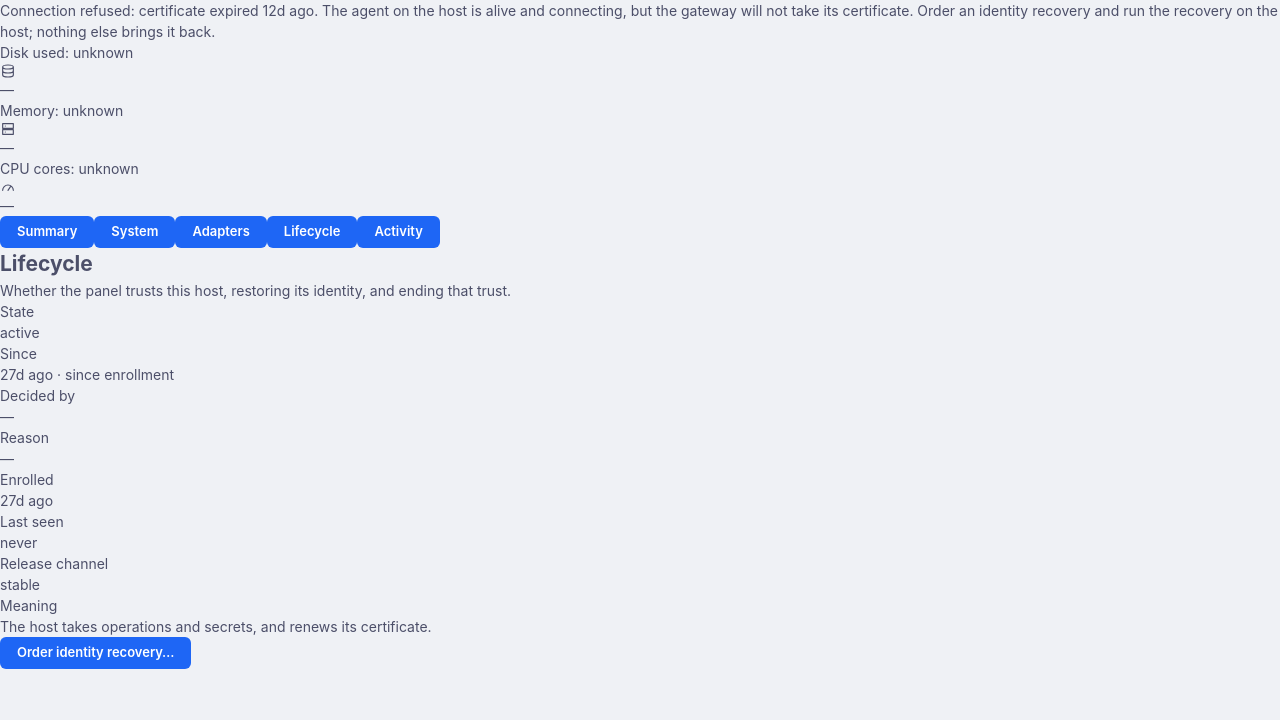
Scenario: the lifecycle of a host › orders an identity recovery and shows the token once, with the command to run
Check: the text with test id "connection-refusal" shows "certificate expired", box top-left (0, 2), bottom-right (318, 19)
Click the button with test id "recovery-open". click: (96, 652)
box: top-left (0, 636), bottom-right (191, 668)
(page scrolled)
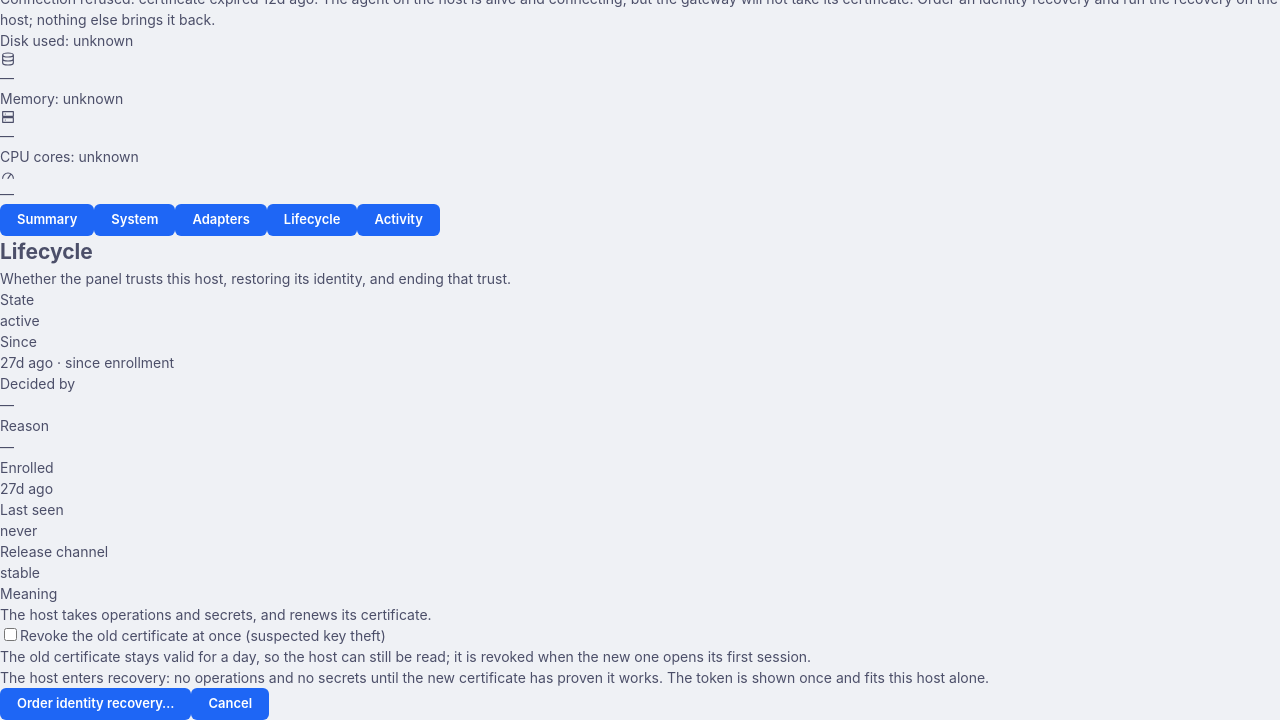
Click the button with test id "recovery". click: (96, 704)
box: top-left (0, 688), bottom-right (191, 719)
(page scrolled)
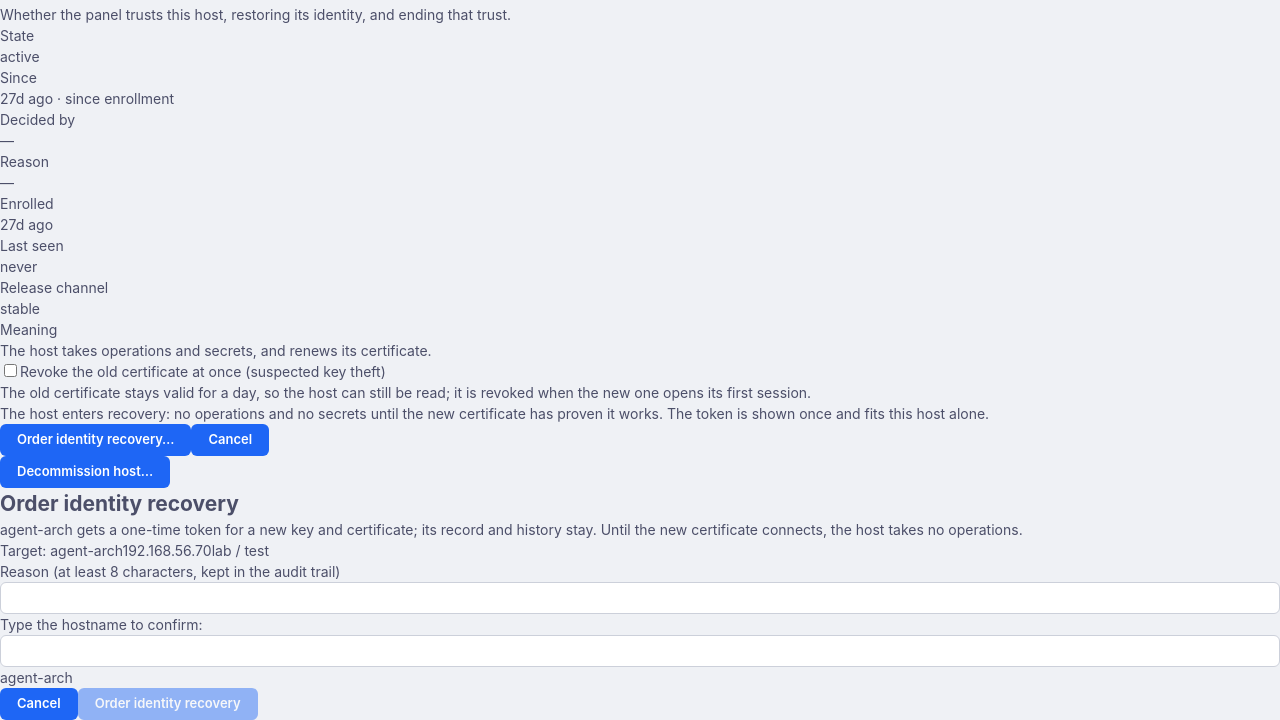
Type "the certificate expired" into the field with test id "confirm-reason". click: (640, 598)
box: top-left (0, 582), bottom-right (1279, 614)
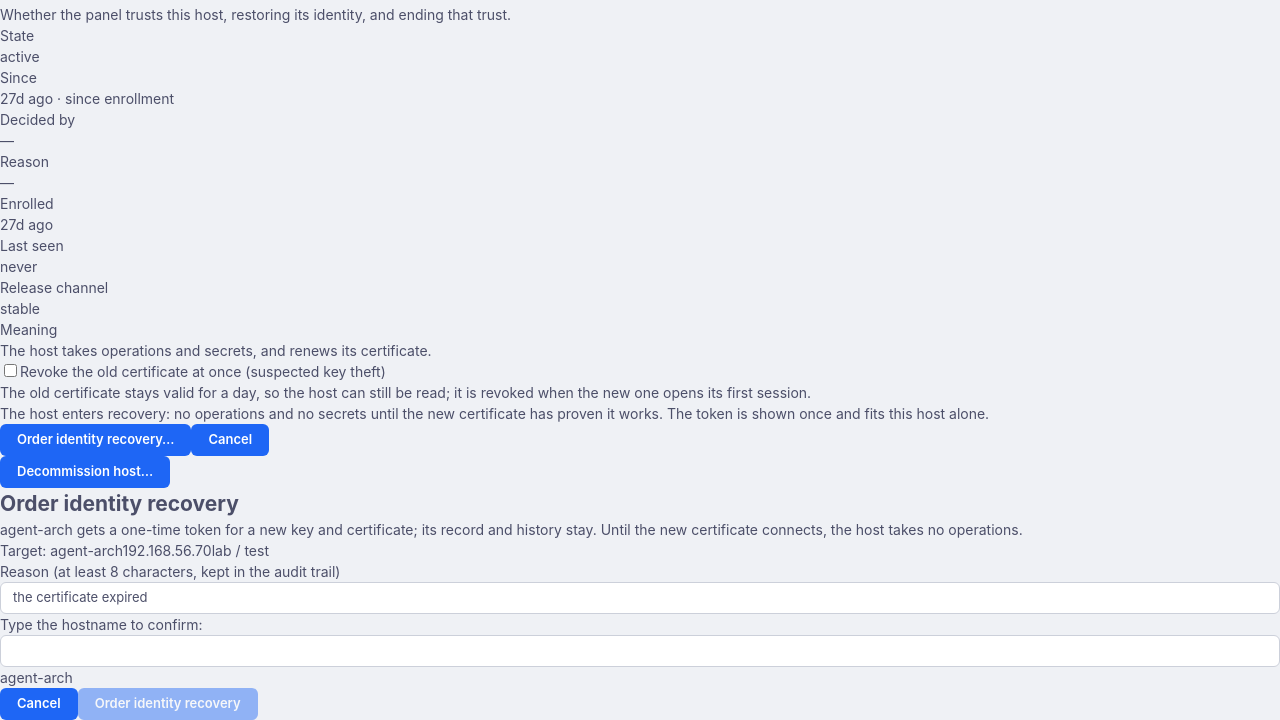
Type "agent-arch" into the field with test id "confirm-target". click: (640, 651)
box: top-left (0, 635), bottom-right (1279, 667)
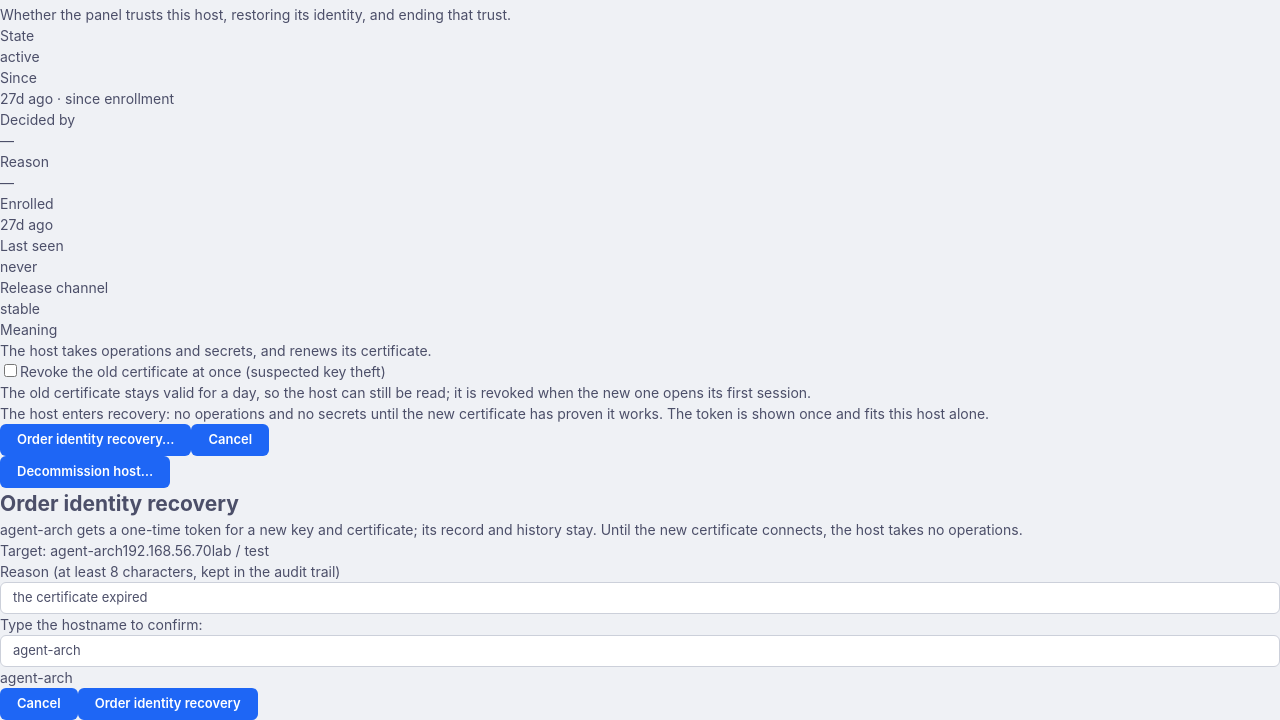
Click the button with test id "confirm-order". click: (168, 704)
box: top-left (78, 688), bottom-right (258, 719)
(page scrolled)
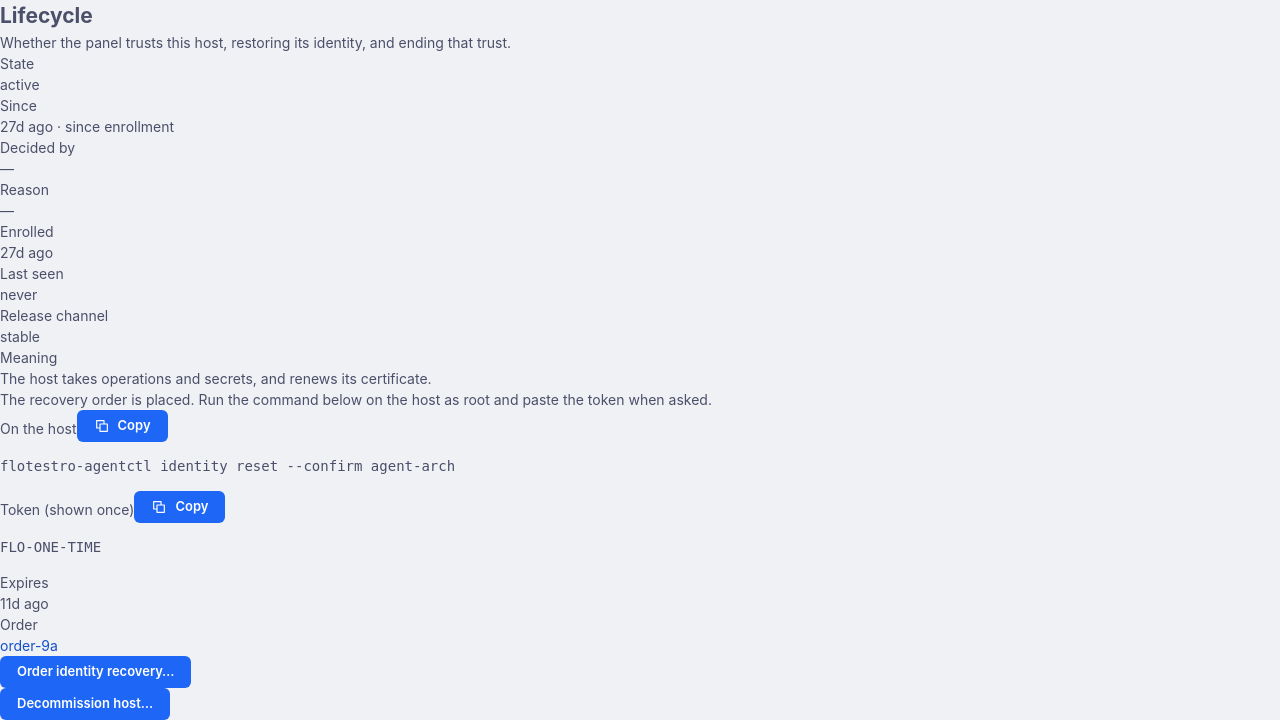
Check: the element with test id "recovery-order" is shown, box top-left (0, 390), bottom-right (712, 654)
Check: the element with test id "recovery-token" shows "FLO-ONE-TIME", box top-left (0, 538), bottom-right (101, 554)
Check: the element with test id "recovery-command" shows "flotestro-agentctl identity reset --confirm agent-arch", box top-left (0, 458), bottom-right (455, 474)
